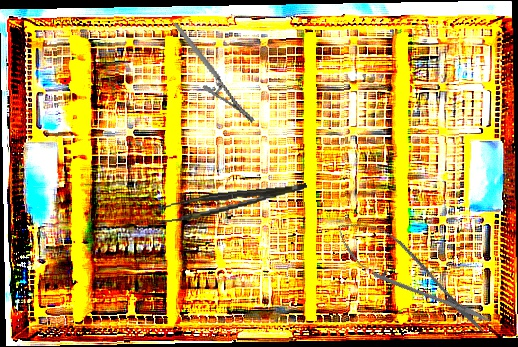Micro Scissor: (325, 206, 500, 346)
Needle Holder: (173, 8, 256, 137)
Tissue Forceps: (157, 183, 309, 223)
